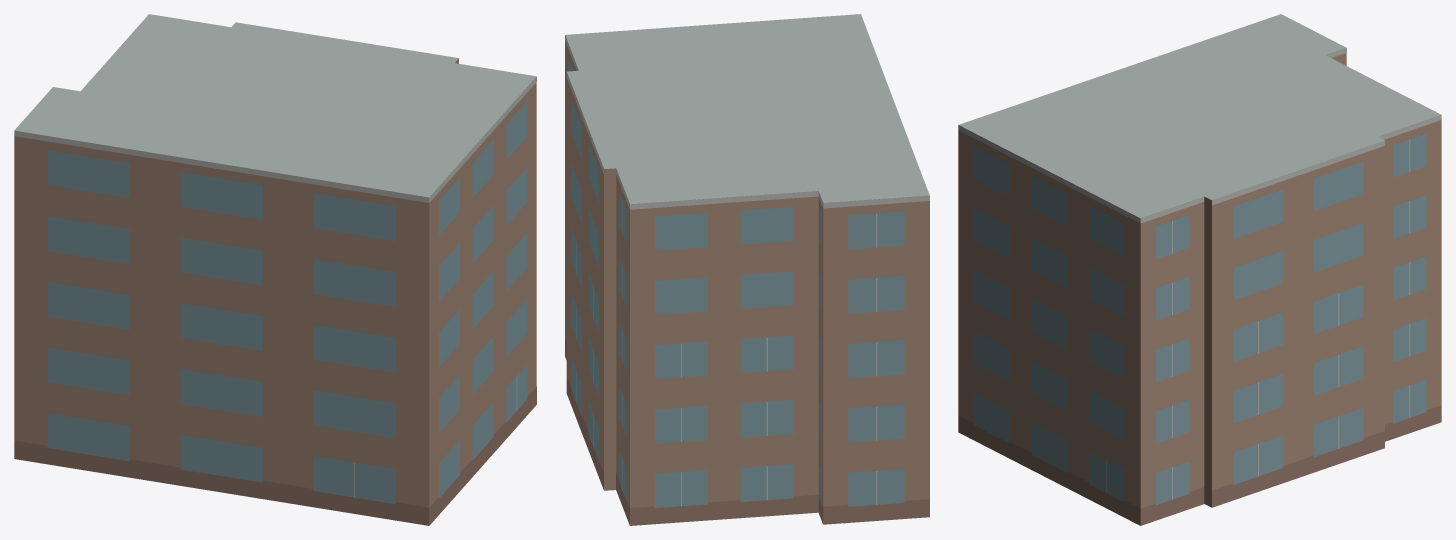
The model's file is survey-upis-32772492.glb.
The picture shows the model from 3 angles, left to right: view 1: azimuth 30°, elevation 25°; view 2: azimuth 150°, elevation 25°; view 3: azimuth 270°, elevation 25°; orthographic projection. The views are drawn at different scales.
Parts seen in each view (by area): view 1: survey-upis-32772492.tmp; view 2: survey-upis-32772492.tmp; view 3: survey-upis-32772492.tmp.
Part boxes in pixels (x1=…): survey-upis-32772492.tmp: x1=14, y1=14, x2=536, y2=525; survey-upis-32772492.tmp: x1=565, y1=14, x2=929, y2=525; survey-upis-32772492.tmp: x1=958, y1=14, x2=1441, y2=525.
Size of the model in its own units: 20.54 by 14.4 by 20.52.
